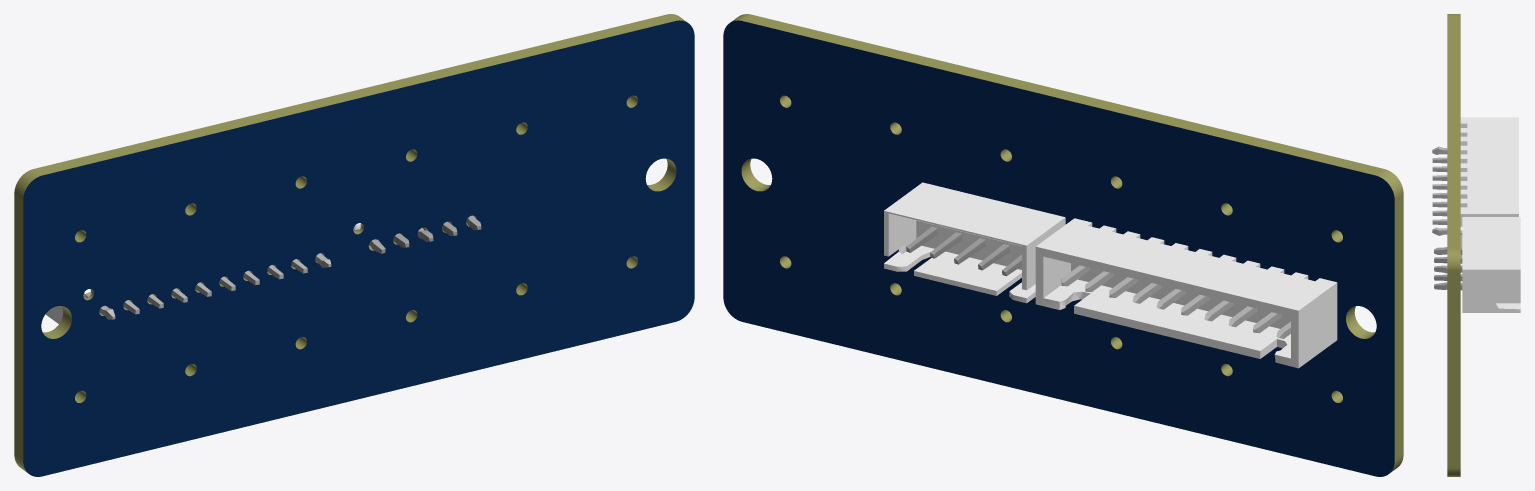
File: breakout_3d.obj
The picture shows the model from 3 angles, left to right: view 1: azimuth 30°, elevation 25°; view 2: azimuth 150°, elevation 25°; view 3: azimuth 270°, elevation 25°; orthographic projection. The views are drawn at different scales.
Bounding box in the file's own units: 69.97 × 29.97 × 10.6.
